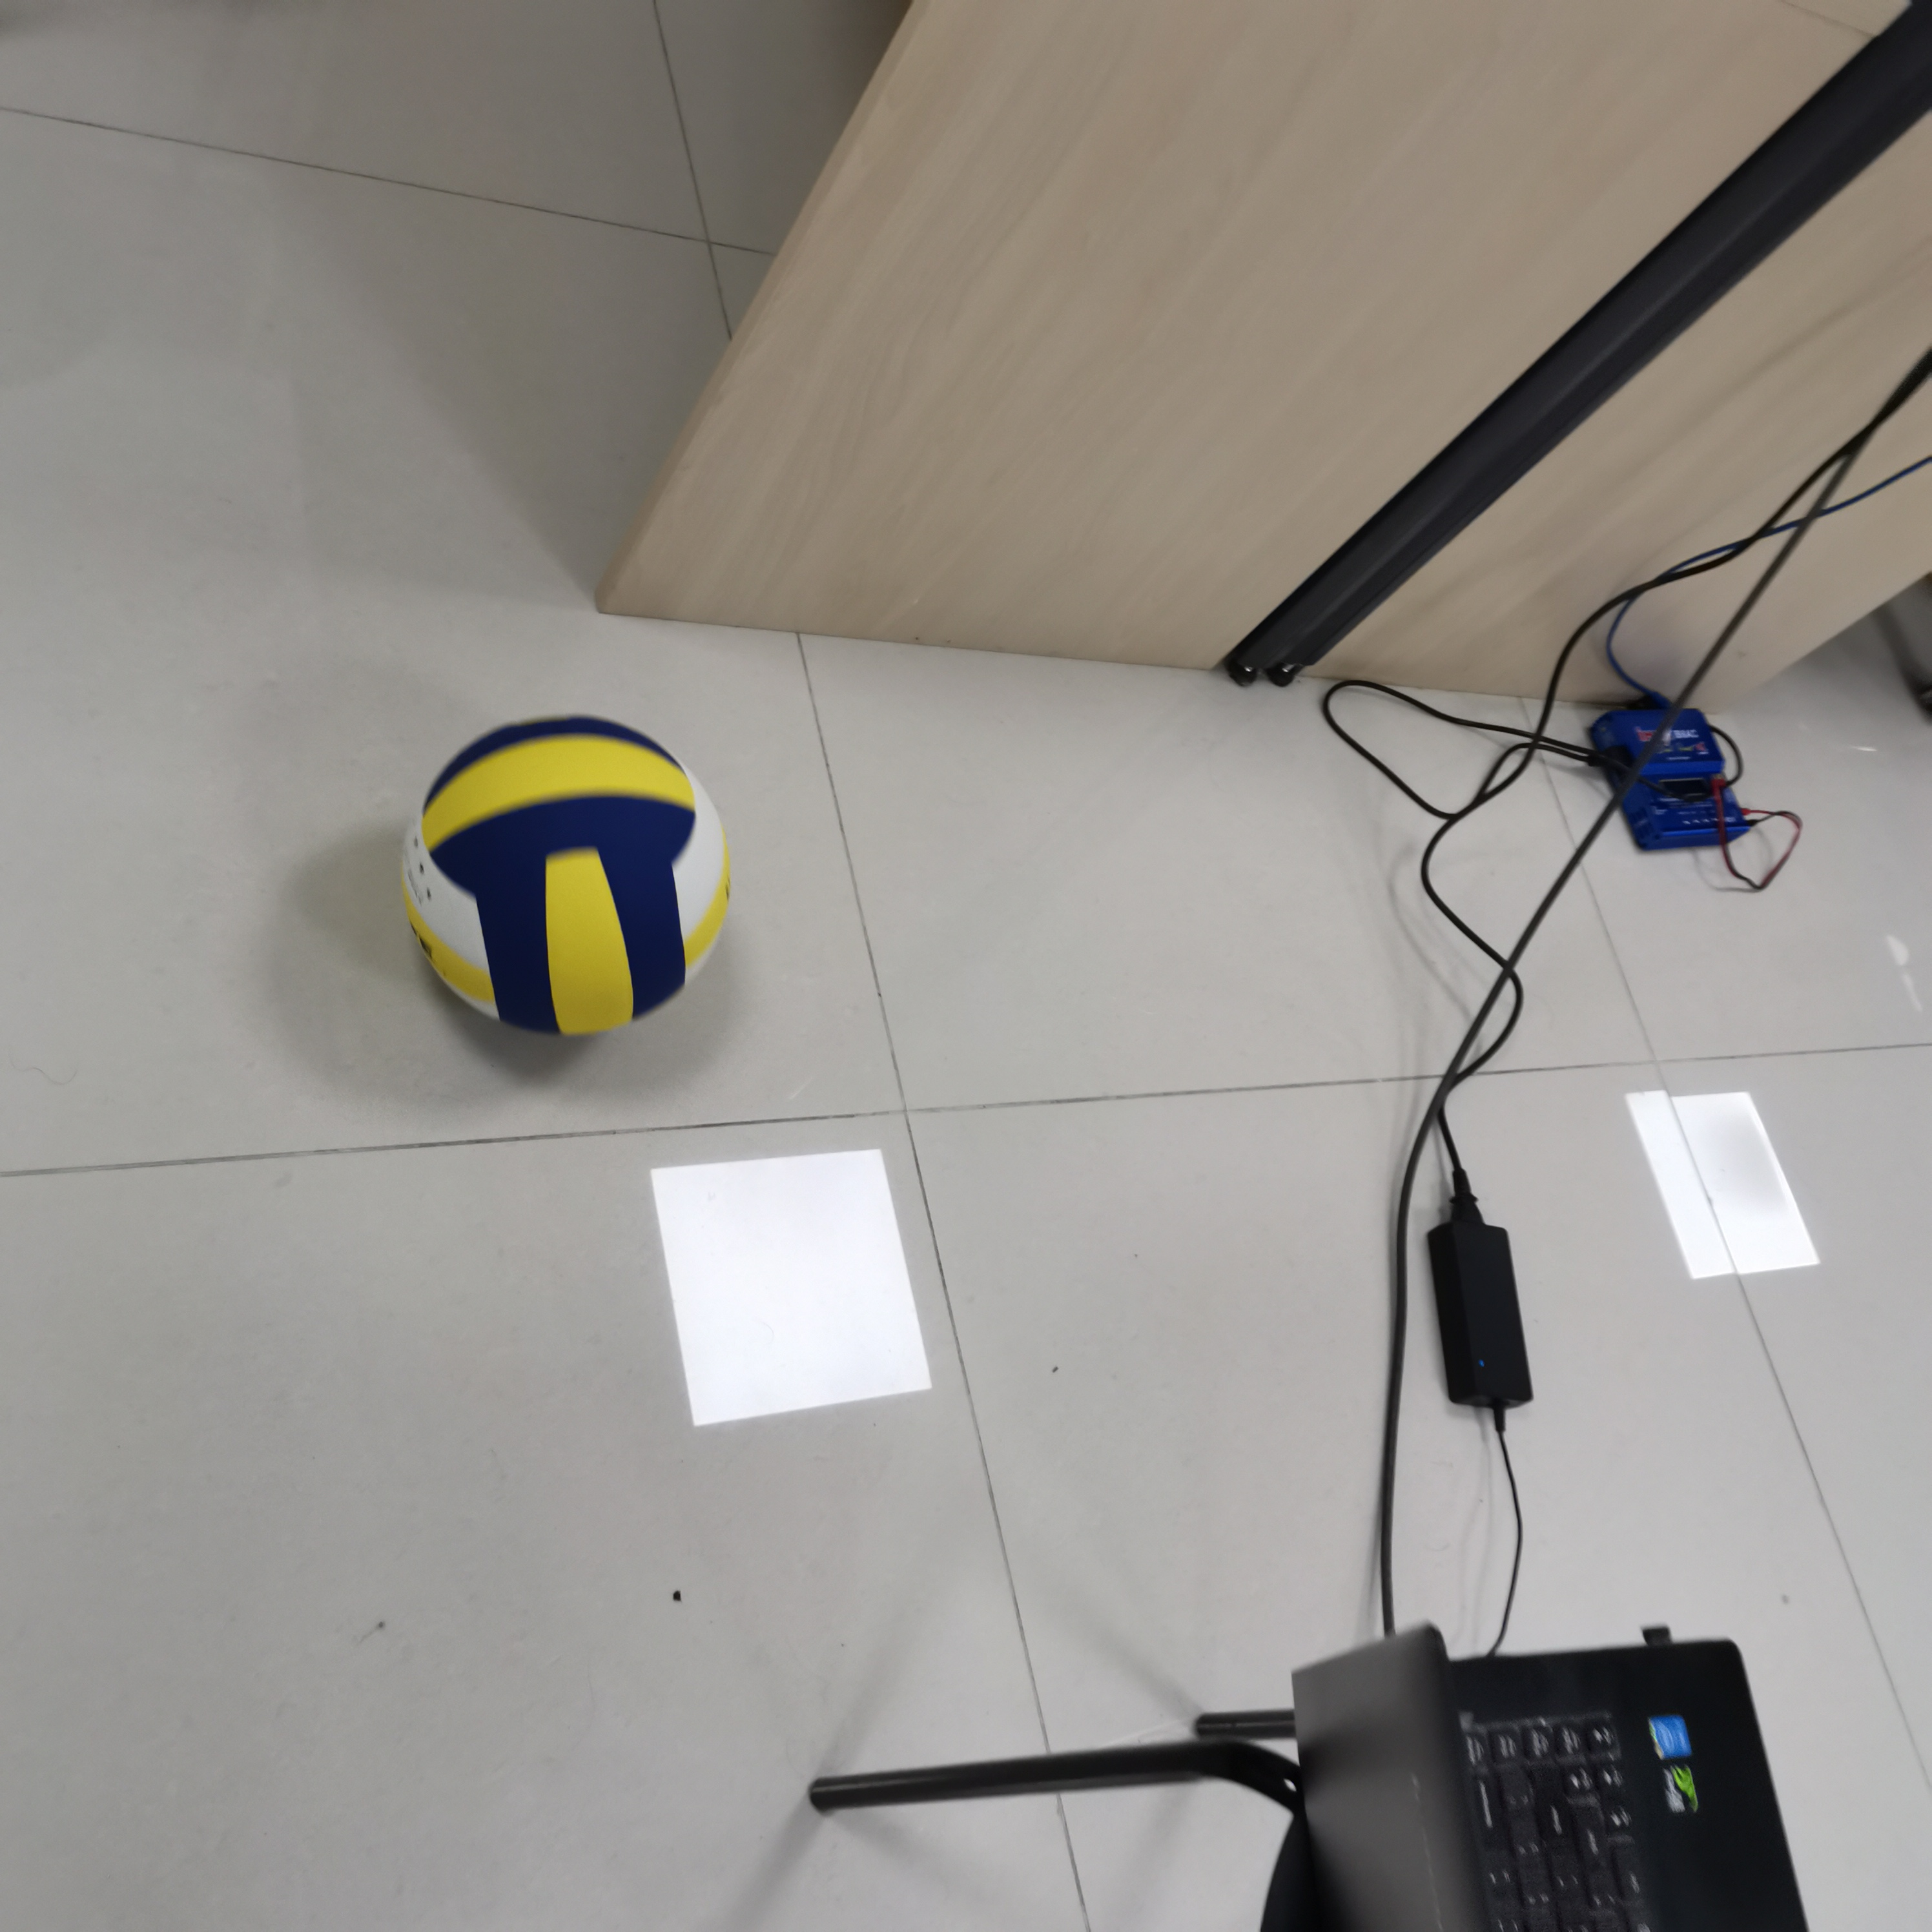volleyball: (395, 713, 731, 1033)
